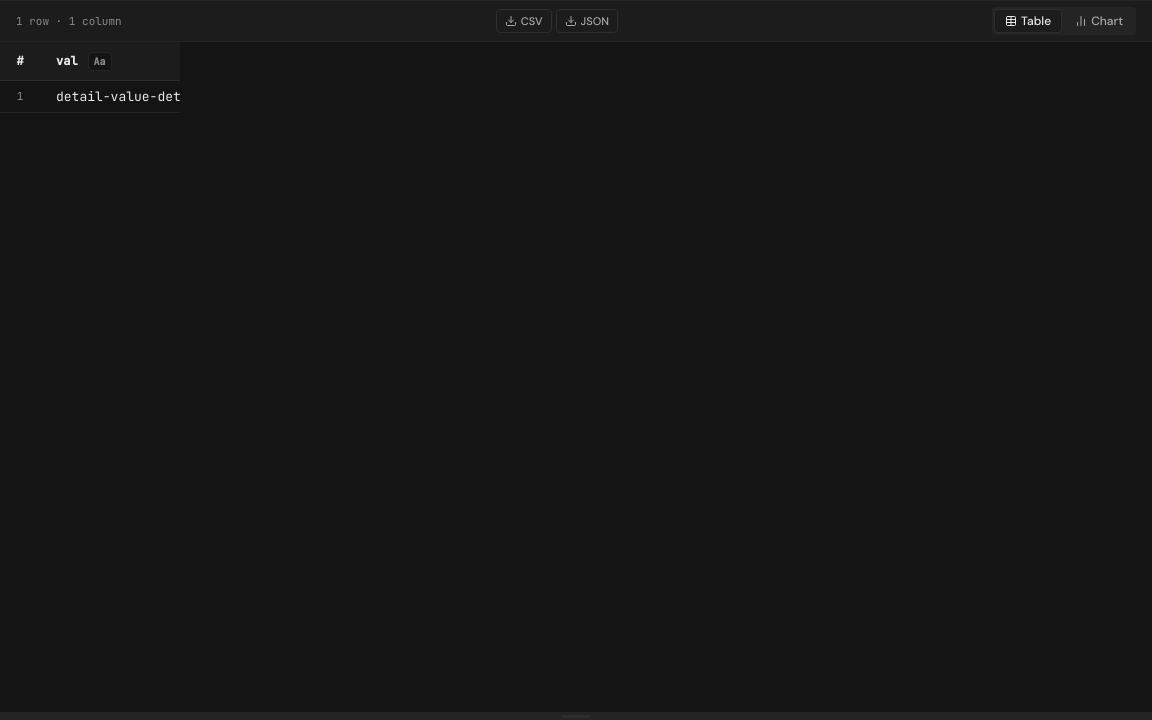
TableOutput detail copy › copies the user selection instead of the whole value
Click the cell "detail-value-detail-value-detail-value-detail-value-": point(110, 97) [40, 81, 180, 113]
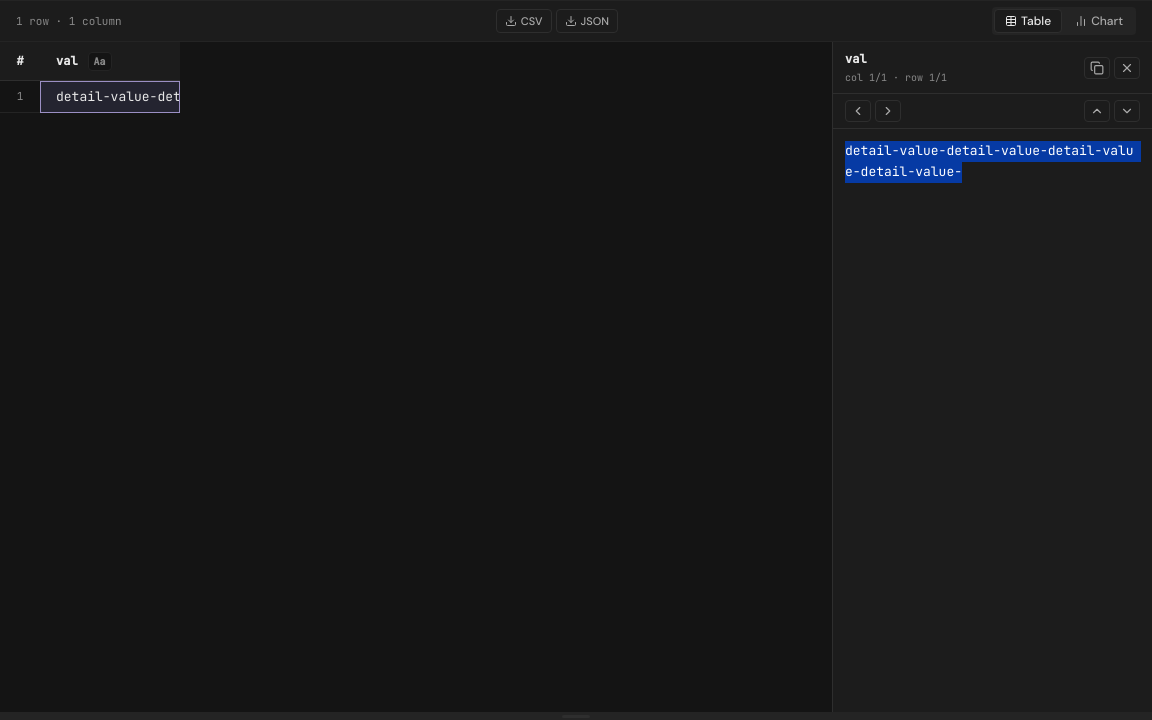
Now the button named "Copy value" is shown, box [1084, 56, 1110, 78]
